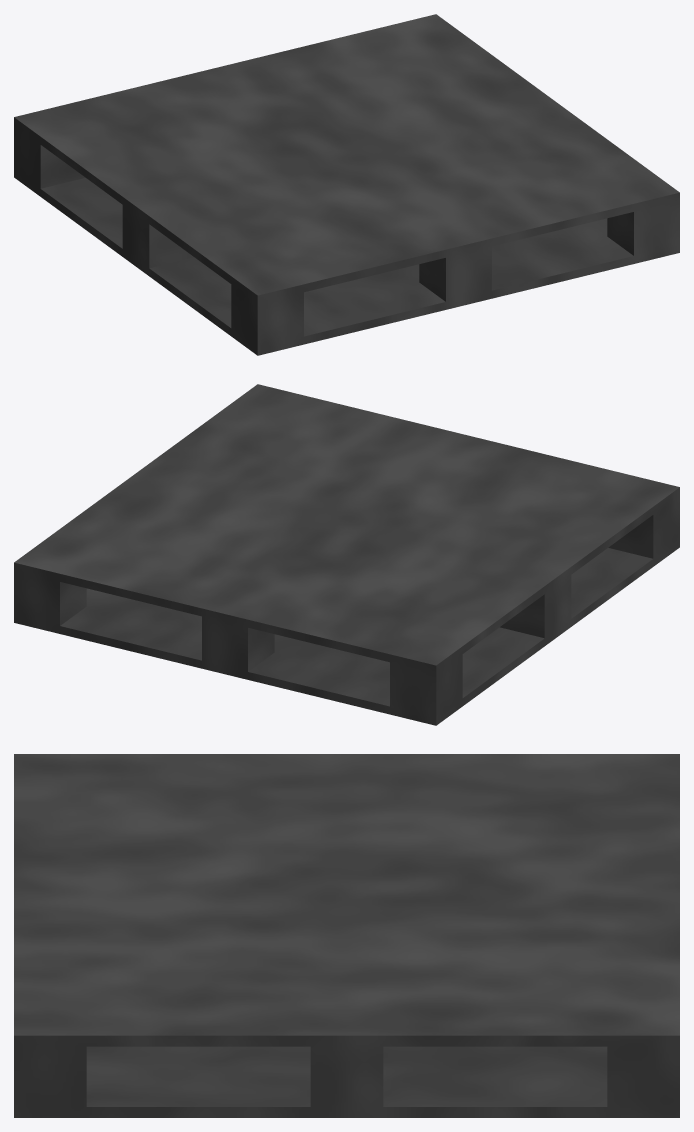
File: ob_Pallet_pra1.fbx
3 renders of one model, top to bottom at view 1: azimuth 30°, elevation 25°; view 2: azimuth 150°, elevation 25°; view 3: azimuth 270°, elevation 25°, orthographic. The views are drawn at different scales.
Visible parts, largest first — view 1: Pallet_Pra1; view 2: Pallet_Pra1; view 3: Pallet_Pra1.
Part boxes in pixels (left/top/right/bottom): Pallet_Pra1: left=14, top=14, right=679, bottom=355; Pallet_Pra1: left=14, top=384, right=679, bottom=725; Pallet_Pra1: left=14, top=754, right=679, bottom=1117.
Size of the model in its own units: 110 by 15 by 110.
